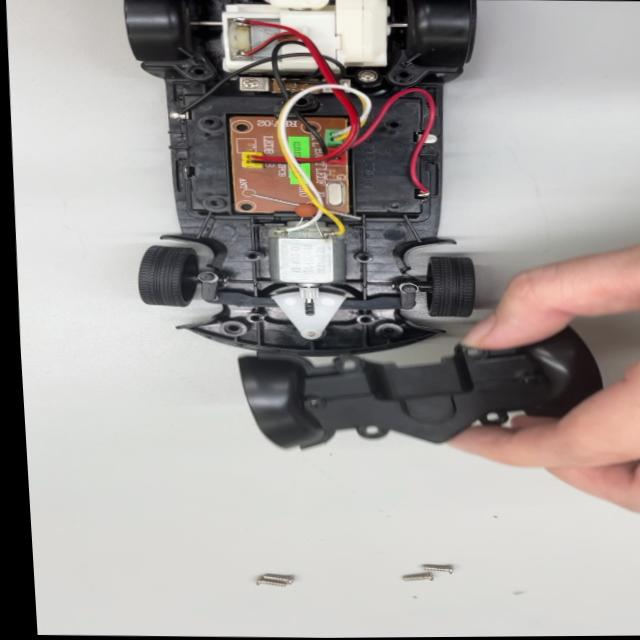motor_cover: (230, 320, 618, 463)
screw: (248, 569, 298, 590), (394, 570, 435, 592)
